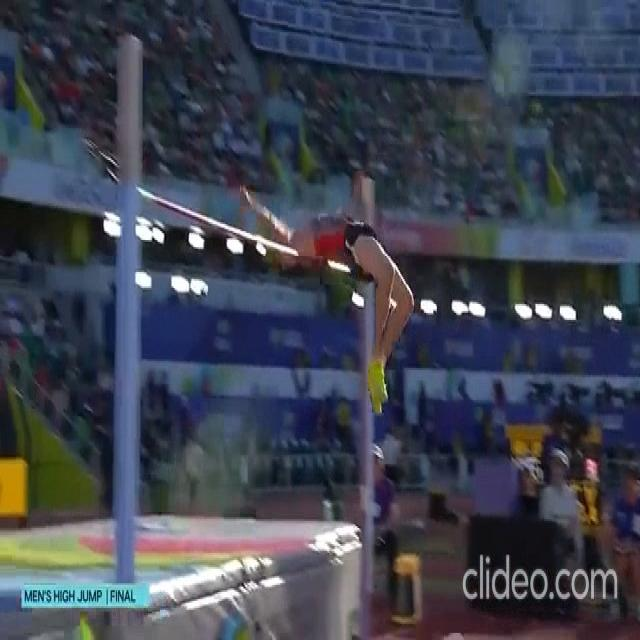jump: (234, 180, 418, 416)
